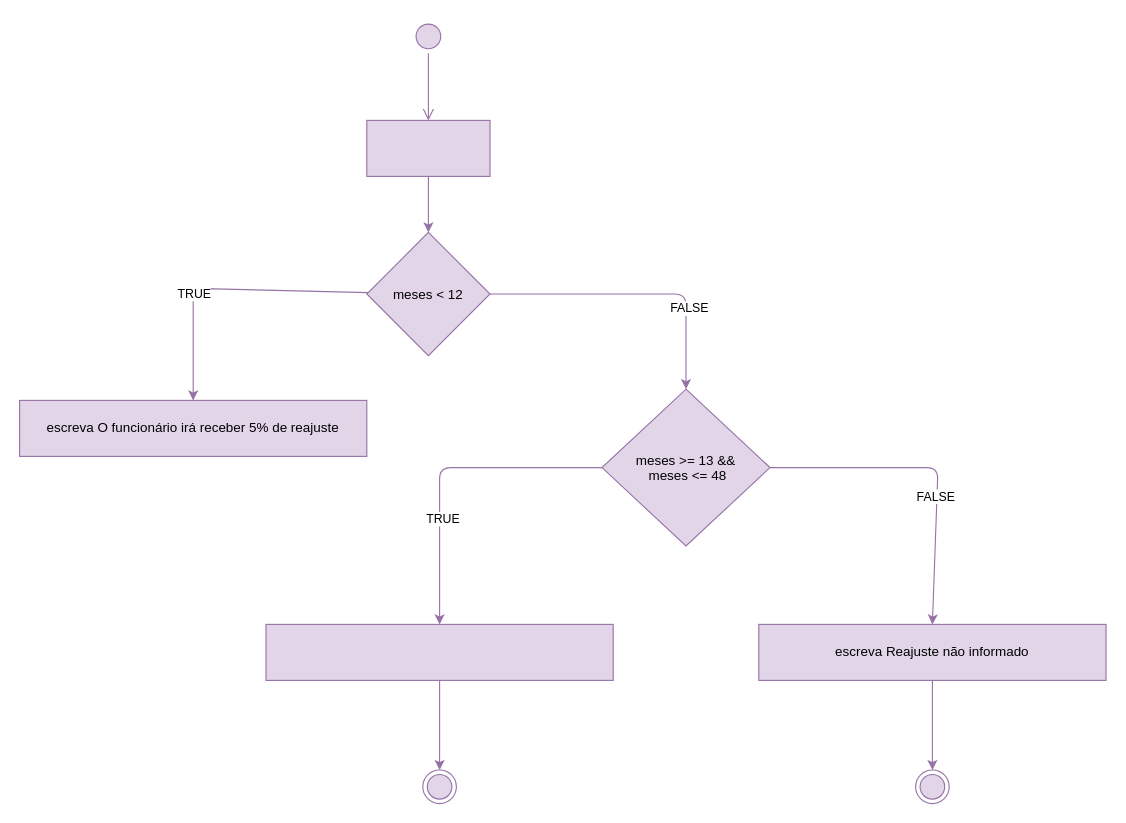
The diagram is 1126 pixels wide and 823 high, and some of its shapes have lost their labels. Here are the shapes that lost their labels. From the top down, the box of each, then its label:
(366, 119, 490, 176): ler meses
(265, 623, 613, 680): esrceva O funcionário irá receber 7% de reajuste
